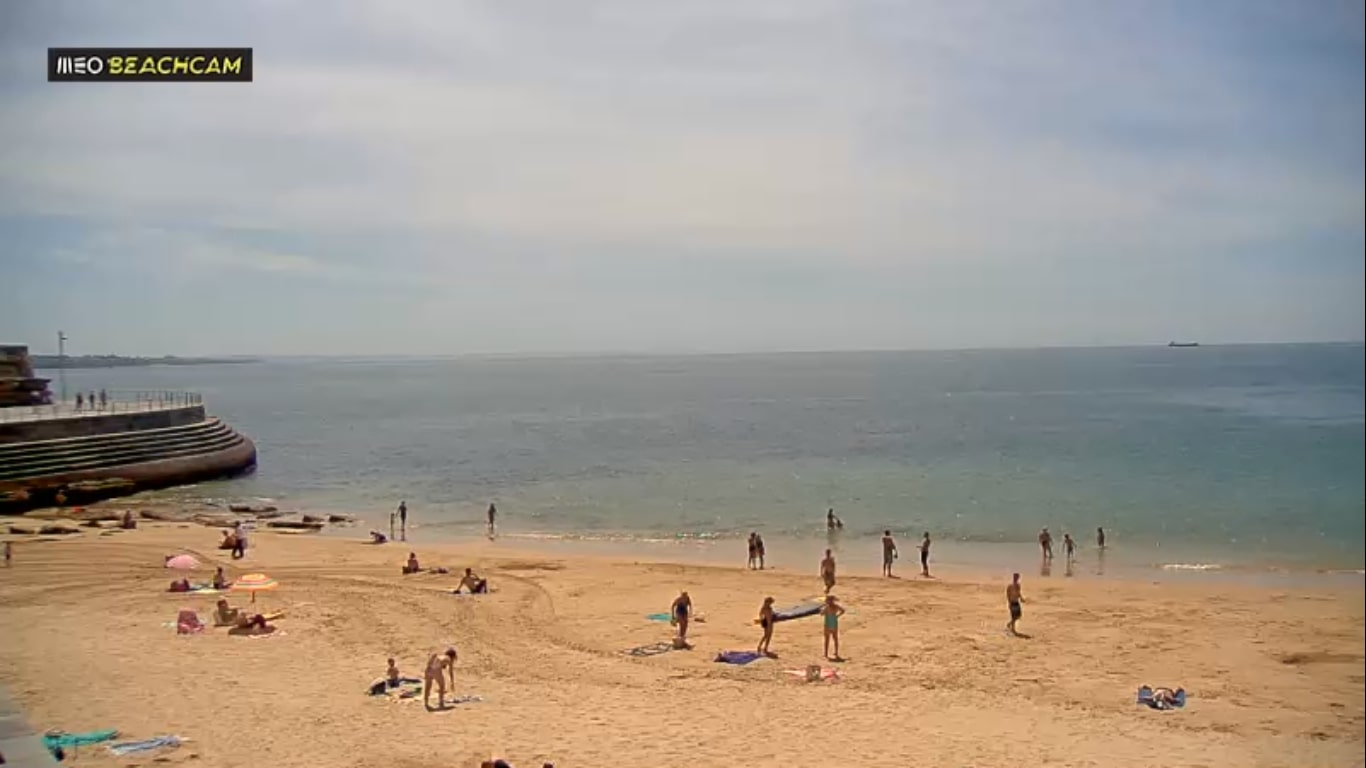person: (418, 646, 459, 713), (1001, 569, 1035, 642), (813, 597, 844, 660), (754, 593, 781, 652), (668, 590, 695, 645), (877, 528, 903, 580), (911, 529, 936, 579), (817, 546, 839, 598), (452, 565, 489, 595), (1030, 526, 1054, 564), (745, 531, 767, 571), (1062, 530, 1078, 577), (231, 520, 249, 557), (383, 657, 404, 687), (213, 598, 235, 623), (237, 611, 265, 630), (1091, 524, 1109, 552), (485, 498, 498, 534), (211, 565, 229, 589), (404, 550, 422, 574), (398, 499, 408, 533), (825, 508, 841, 529), (217, 528, 229, 549), (3, 540, 13, 565), (369, 530, 387, 542), (388, 511, 396, 529)
